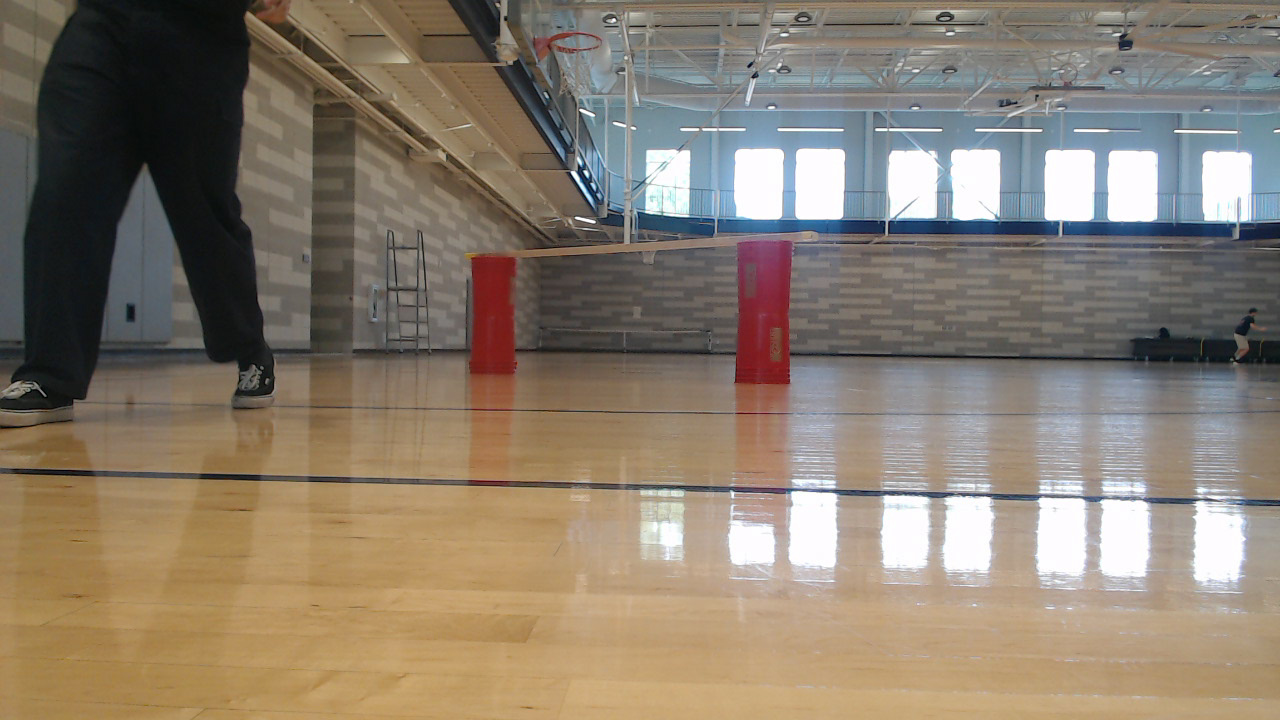red_bucket_arch: (462, 236, 805, 399)
